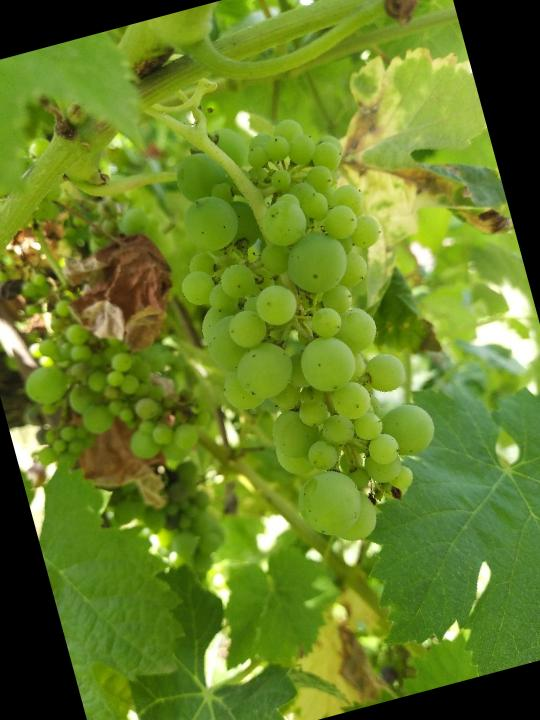grape: (141, 93, 461, 573)
